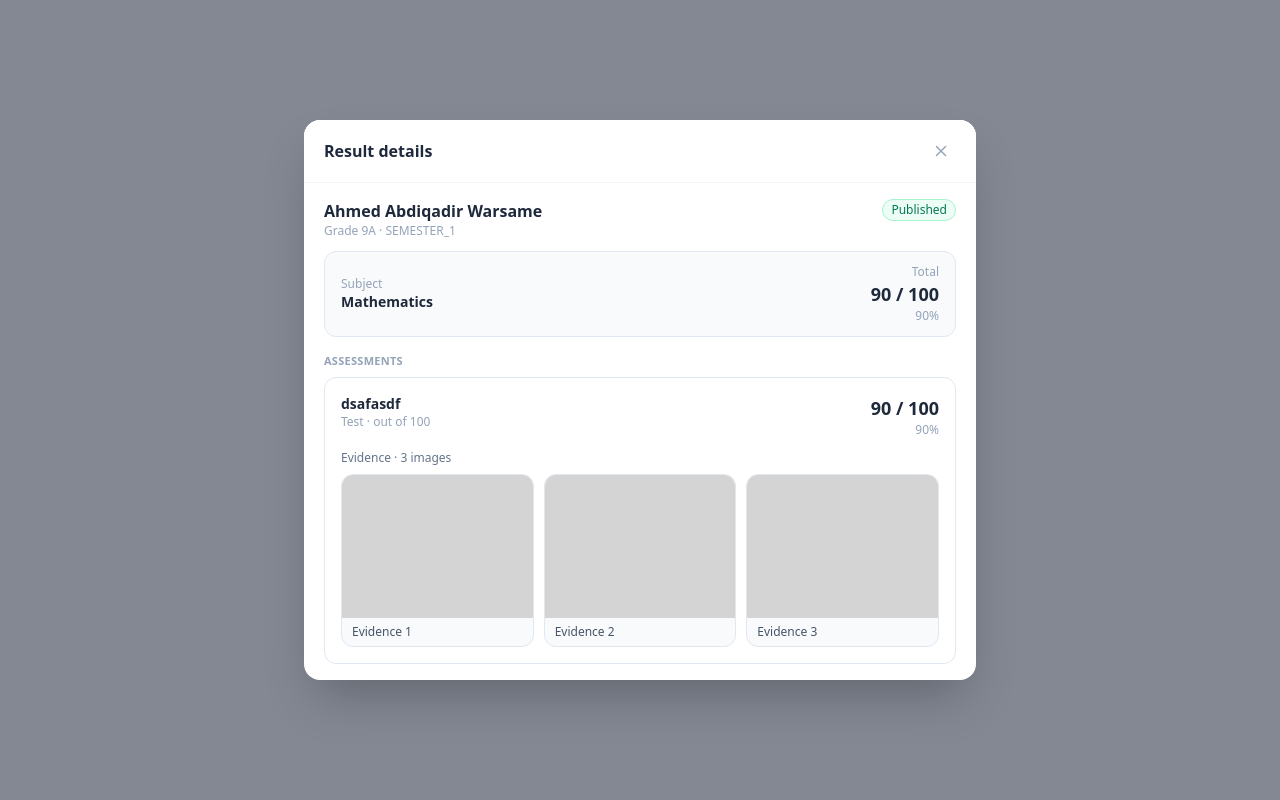
Test case: Evidence viewer downloads (images, never a PDF) › Download all saves every image separately — three files, no PDF, no combined file
Click the button with aria-label "Open evidence 1 of 3": point(437, 561) [341,474,534,647]
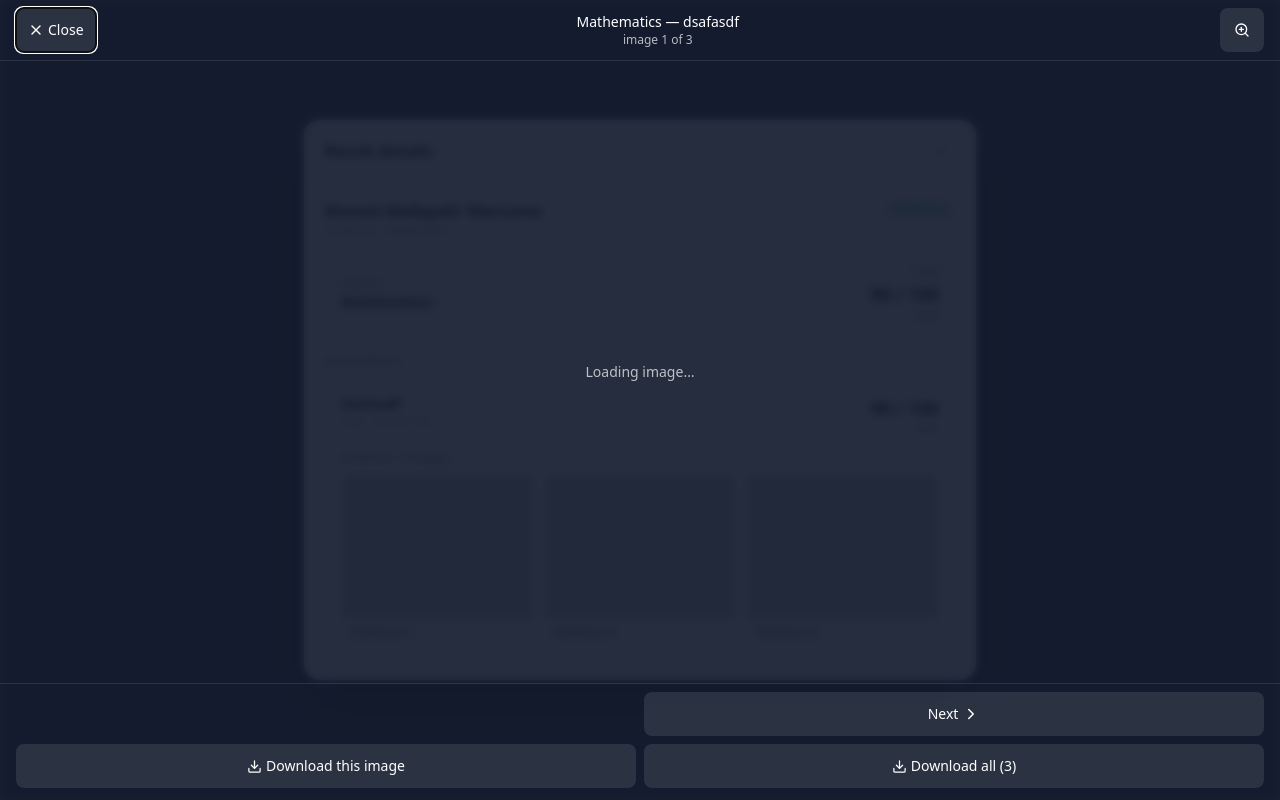
Click the button "Download all (3)": point(954, 766) [644,744,1264,788]
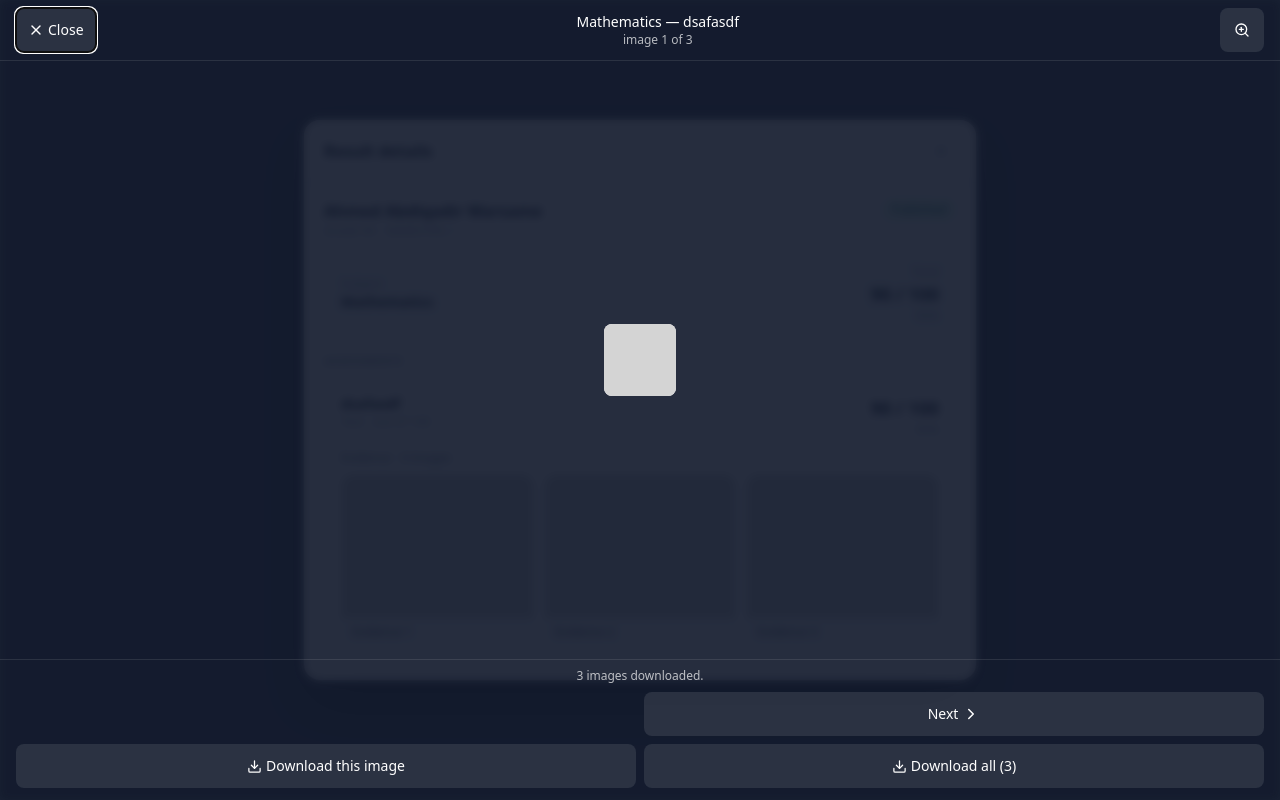
expect the text "3 images downloaded." is shown: met, box [576,667,704,684]
